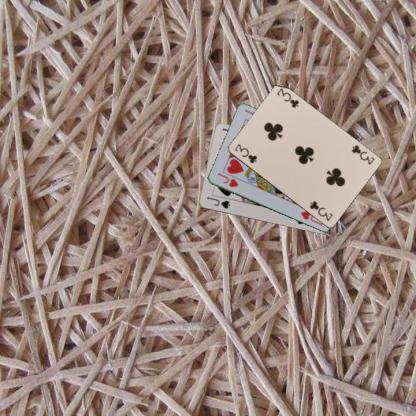3c: (349, 142, 376, 167), (232, 142, 258, 165)
Jh: (214, 170, 239, 189)
Js: (205, 194, 231, 210)
